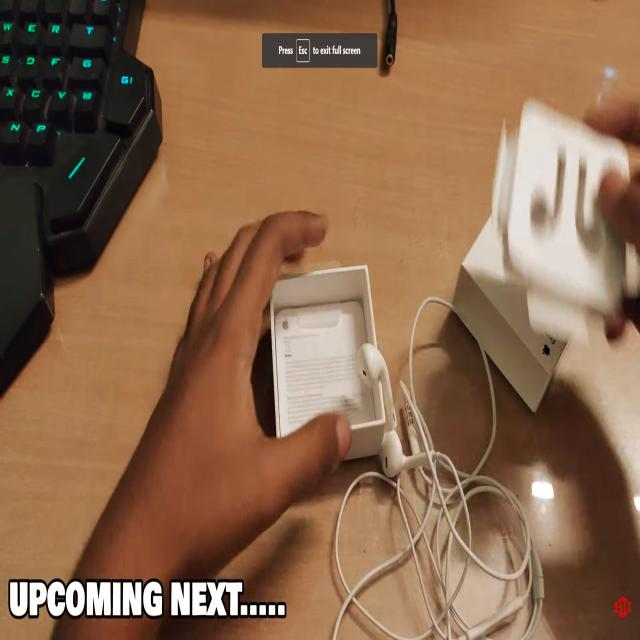Earphone: (331, 296, 545, 640)
